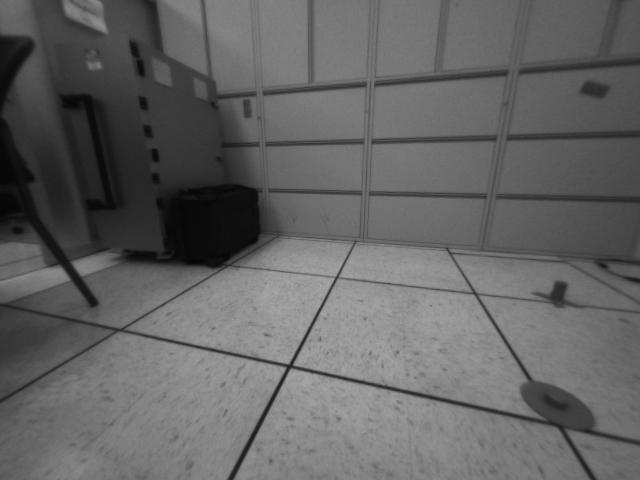X: (531, 280, 583, 309)
